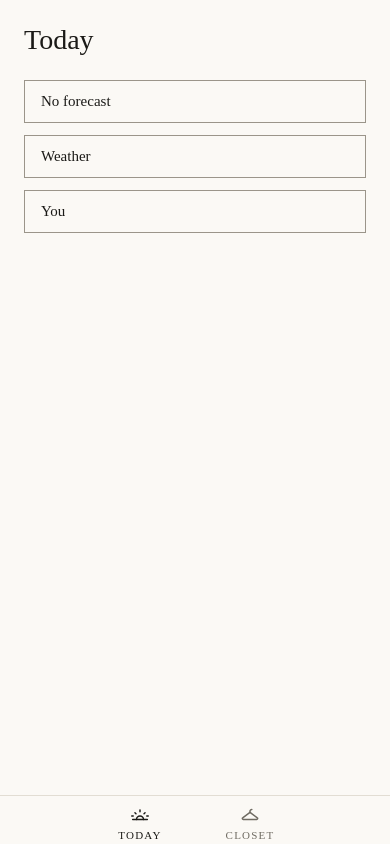
Scenario: reaches Weather
Click the button "Weather": (66,156) [24, 135, 366, 178]
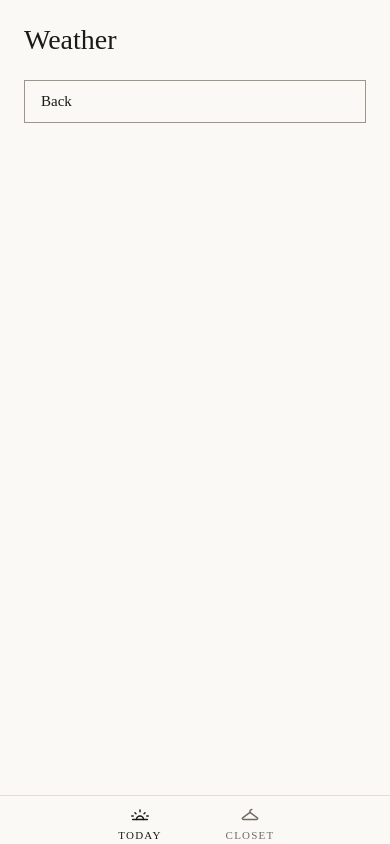
Now the heading "Weather" is shown, box [24, 24, 117, 55]
